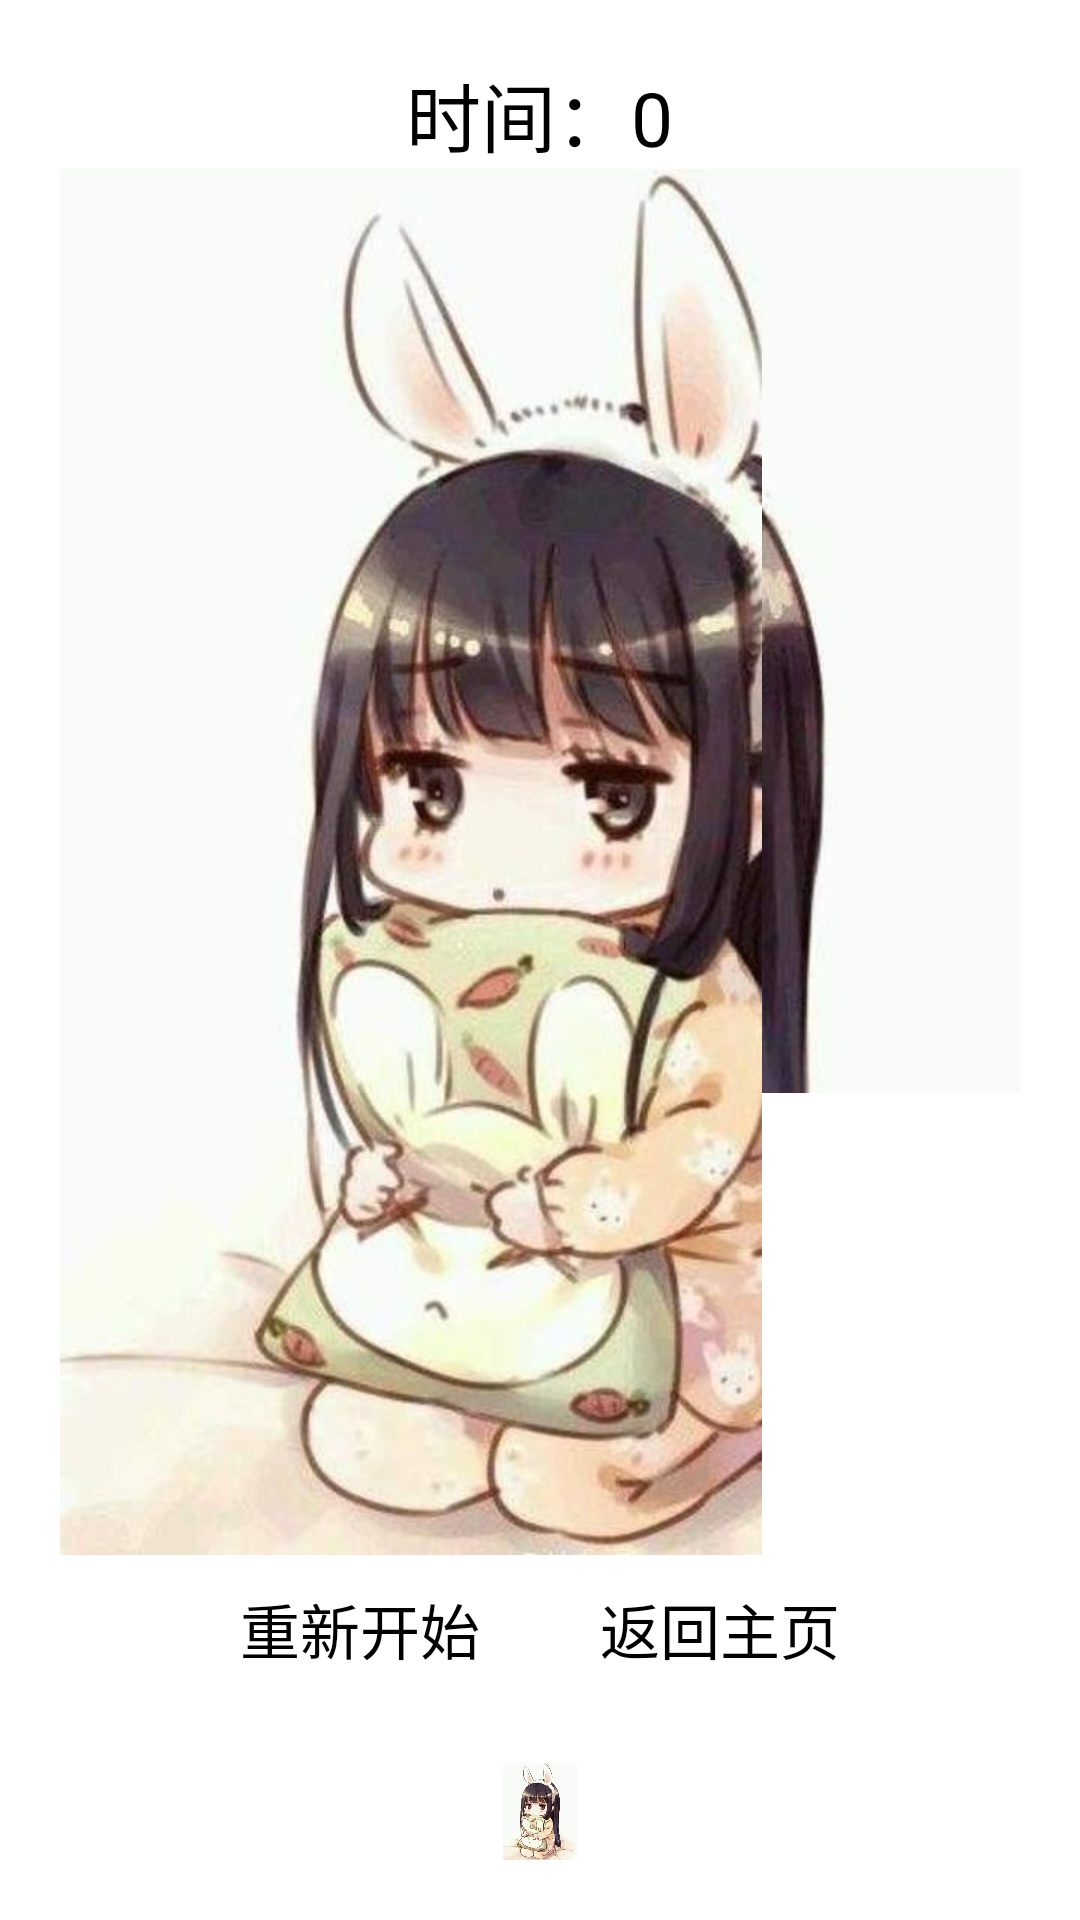

Icon bounding boxes for this 1080×1920 phone screenshot, format detection(x1, y1, x2, y2):
yuantu: detection(503, 1763, 575, 1860)
